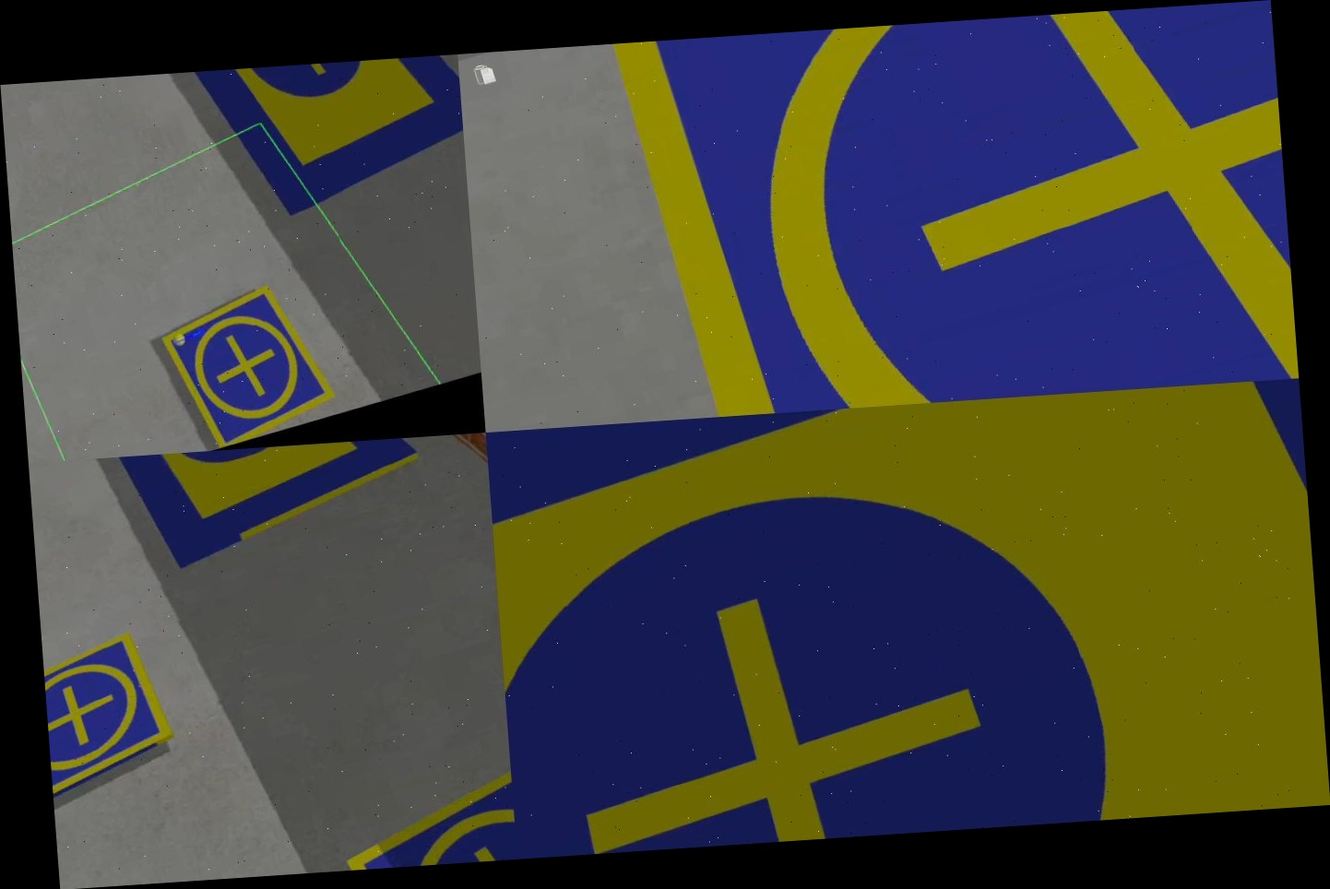large_base: (486, 378, 1330, 859), (134, 54, 469, 238), (103, 436, 438, 581)
small_base: (568, 0, 1298, 425), (151, 273, 344, 454), (42, 622, 190, 817), (323, 730, 517, 871)
